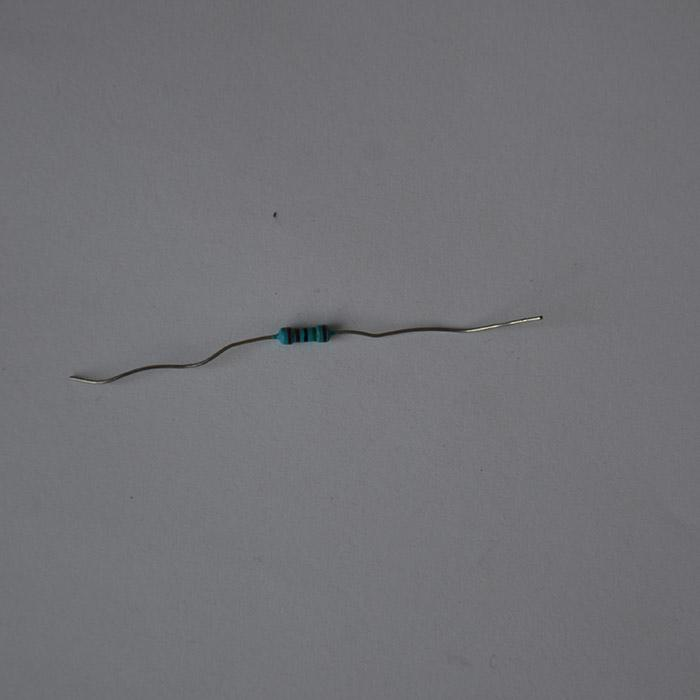resistor: (274, 324, 337, 344)
